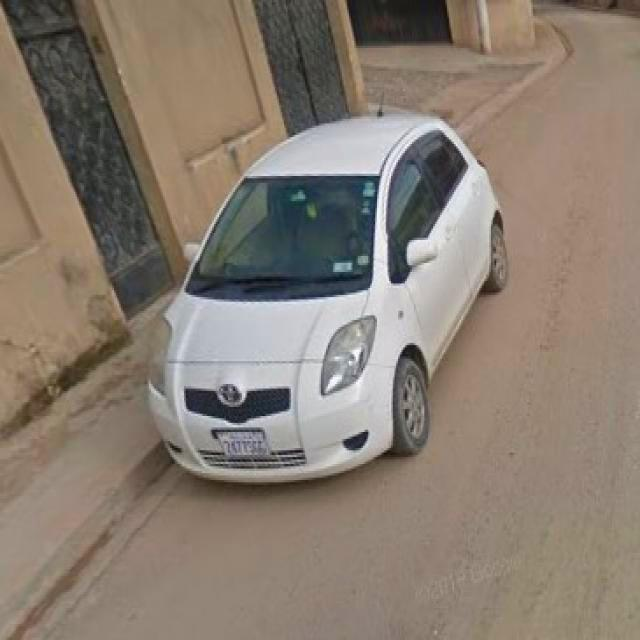Car: (151, 126, 502, 494)
